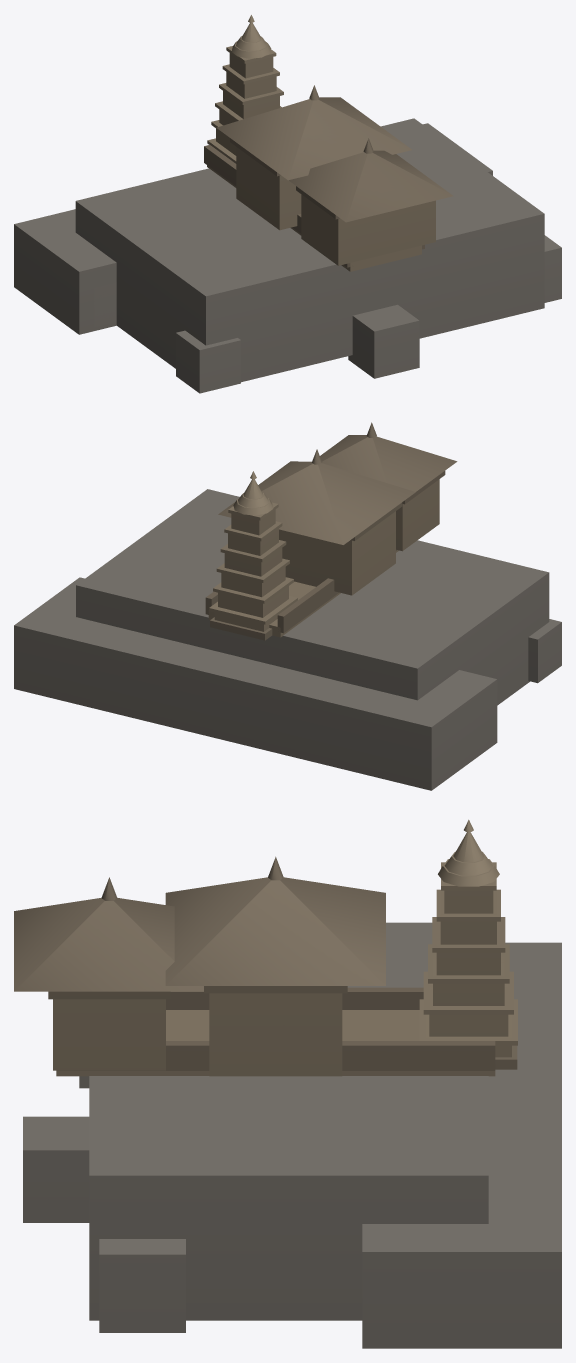
Rendered from preah-vihear.glb.
3 renders of one model, top to bottom at view 1: azimuth 30°, elevation 25°; view 2: azimuth 150°, elevation 25°; view 3: azimuth 270°, elevation 25°, orthographic. The views are drawn at different scales.
Bounding box in the file's own units: 6.05 × 3.53 × 4.53.
